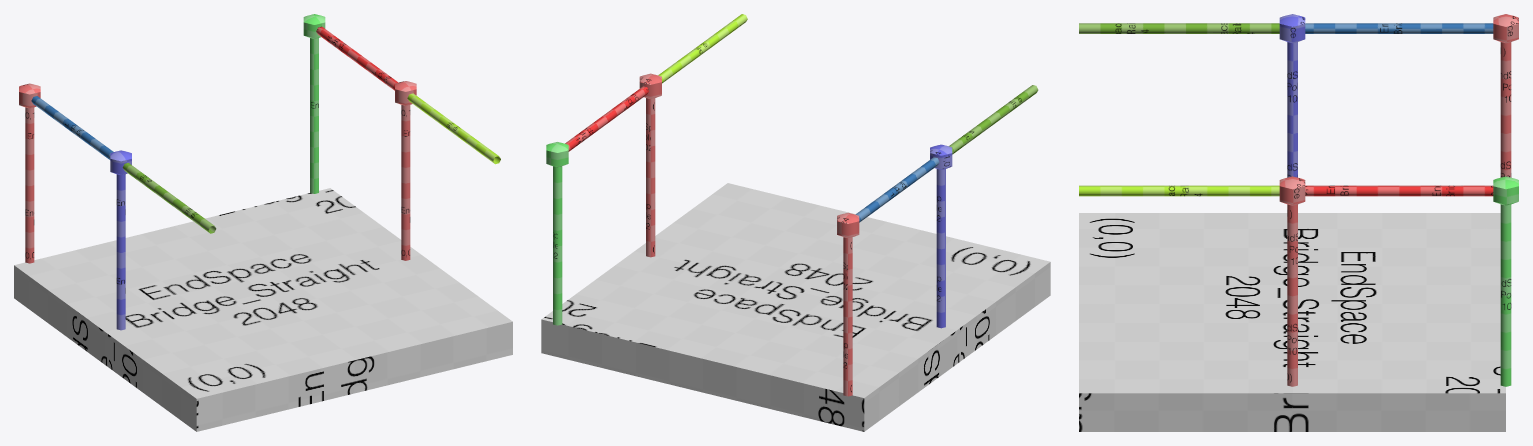
File: bridge_straight.fbx
3 renders of one model, left to right at view 1: azimuth 30°, elevation 25°; view 2: azimuth 150°, elevation 25°; view 3: azimuth 270°, elevation 25°, orthographic. The views are drawn at different scales.
Visible parts, largest first — view 1: bridge_straight_floor, bridge_straight; view 2: bridge_straight_floor, bridge_straight; view 3: bridge_straight_floor, bridge_straight.
Part boxes in pixels (bbox=[...]): bridge_straight_floor: bbox=[14, 188, 512, 431]; bridge_straight: bbox=[19, 14, 500, 330]; bridge_straight_floor: bbox=[541, 183, 1050, 431]; bridge_straight: bbox=[546, 14, 1038, 396]; bridge_straight_floor: bbox=[1079, 213, 1505, 431]; bridge_straight: bbox=[1079, 14, 1518, 386].
Bounding box in the file's own units: 200 × 126 × 206.
